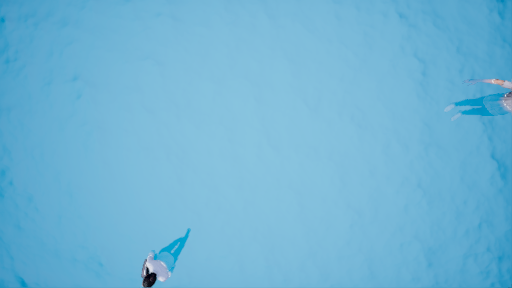person: (138, 216, 195, 288), (442, 70, 512, 121)
